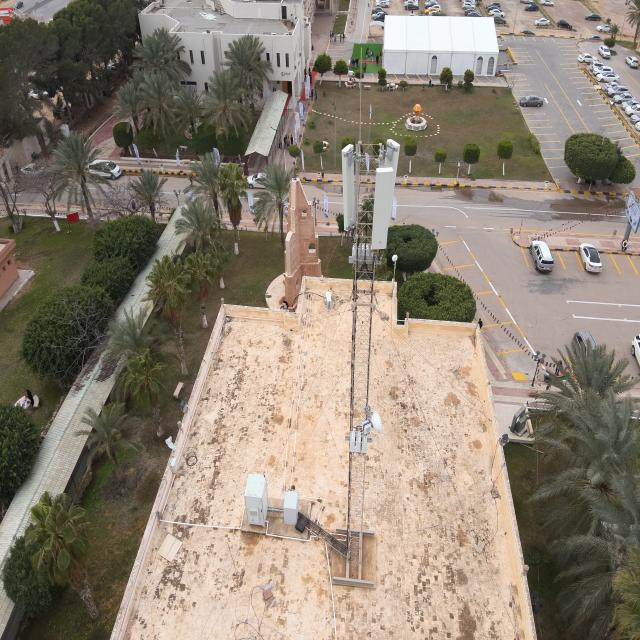antenna: (368, 164, 395, 252), (378, 136, 401, 239), (340, 142, 360, 231)
lighnig-rad: (358, 43, 362, 142)
microware-dish: (361, 405, 385, 440)
power-box: (347, 430, 369, 456)
radio-unit: (351, 241, 385, 264)
